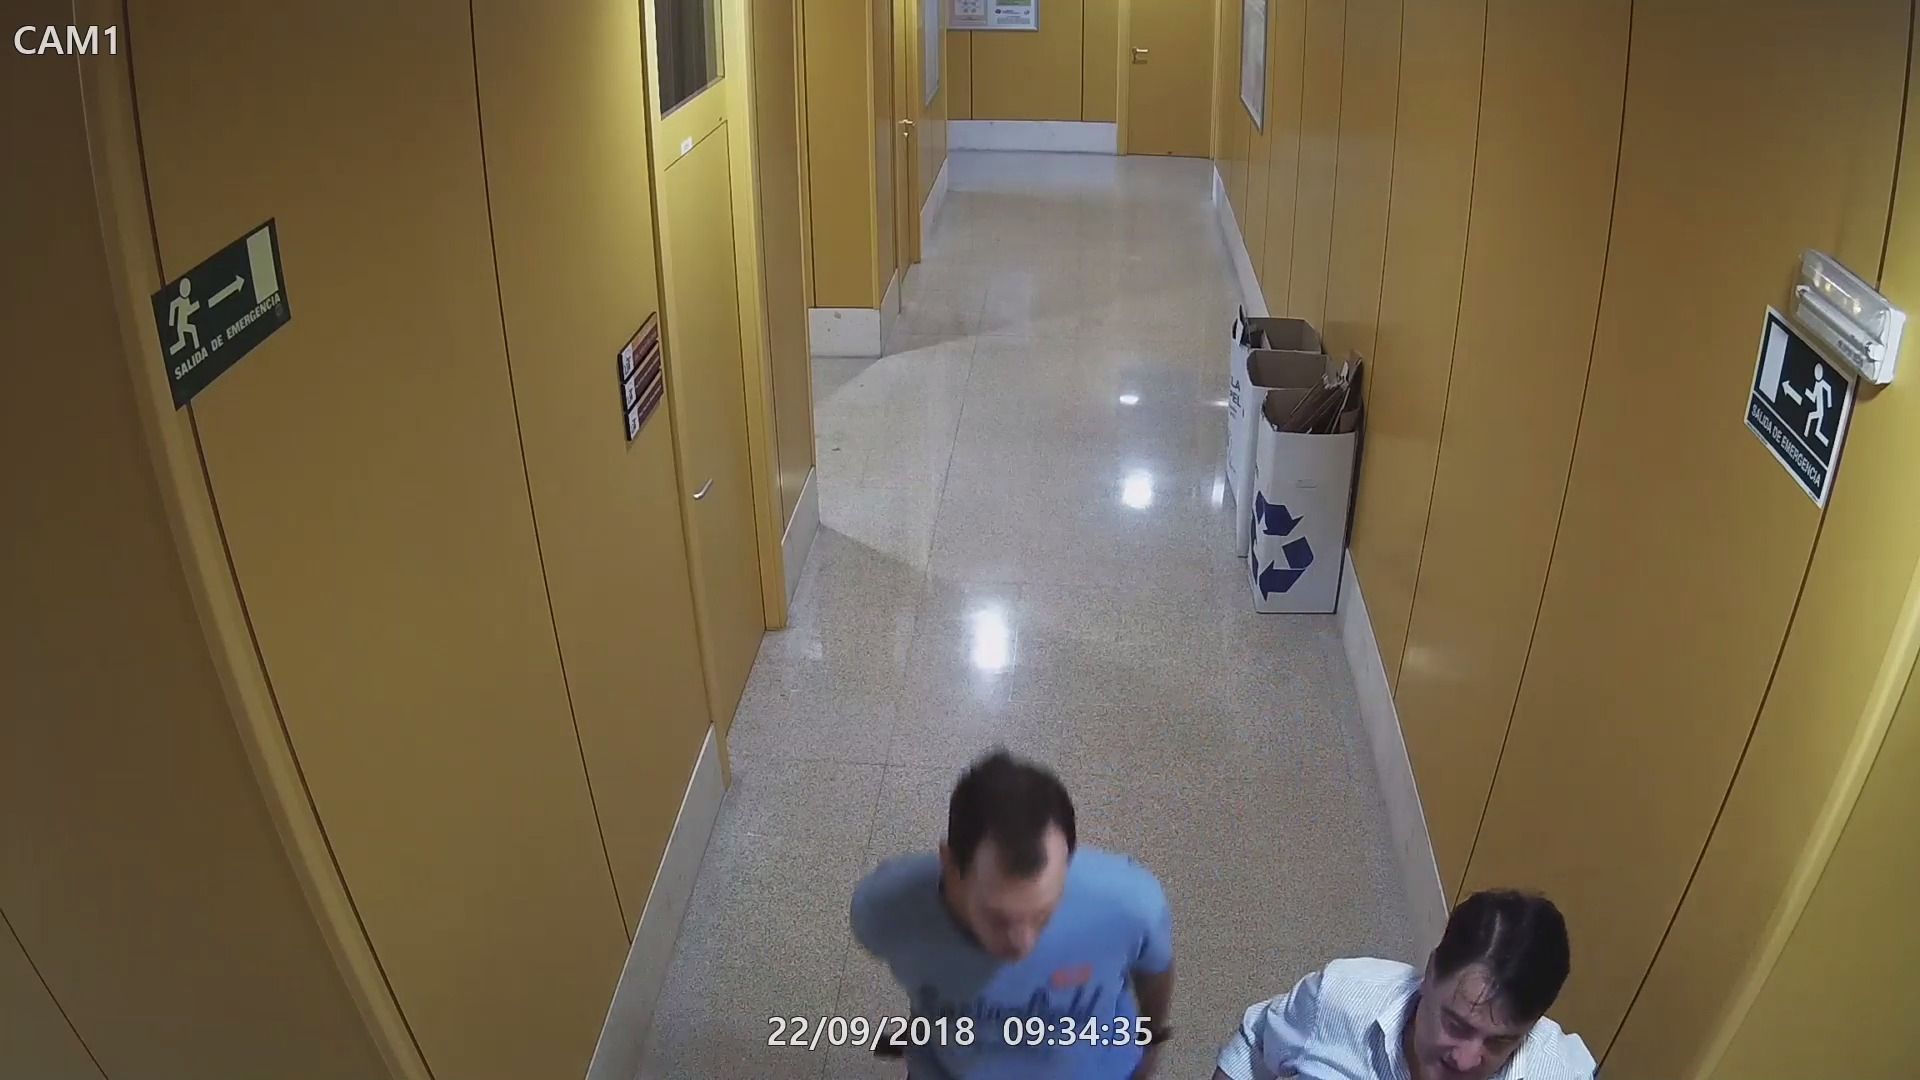Handgun: (862, 1034, 920, 1060)
